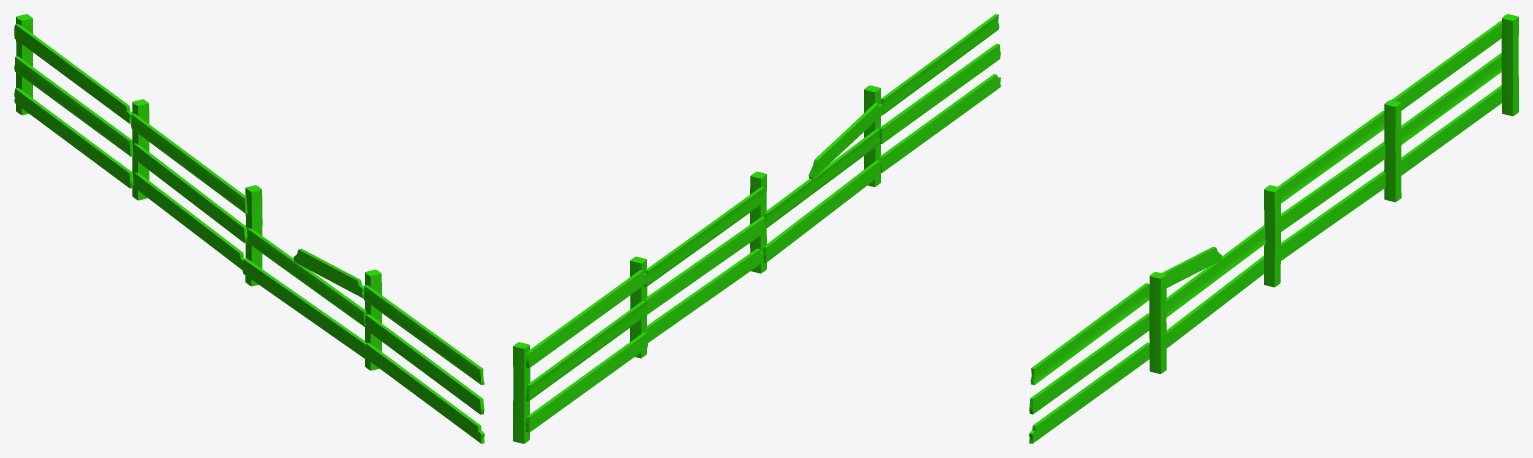
File: Farm_Fence_x4_02.fbx
3 views of the same model, side by side, from view 1: azimuth 30°, elevation 25°; view 2: azimuth 150°, elevation 25°; view 3: azimuth 330°, elevation 25° (orthographic).
Parts seen in each view (by area): view 1: Farm_Fence_x4_02; view 2: Farm_Fence_x4_02; view 3: Farm_Fence_x4_02.
Part boxes in pixels (left/top/right/bottom): Farm_Fence_x4_02: left=14, top=14, right=484, bottom=443; Farm_Fence_x4_02: left=513, top=14, right=1000, bottom=443; Farm_Fence_x4_02: left=1029, top=14, right=1518, bottom=443.
Bounding box in the file's own units: 27.12 × 134 × 1212.
